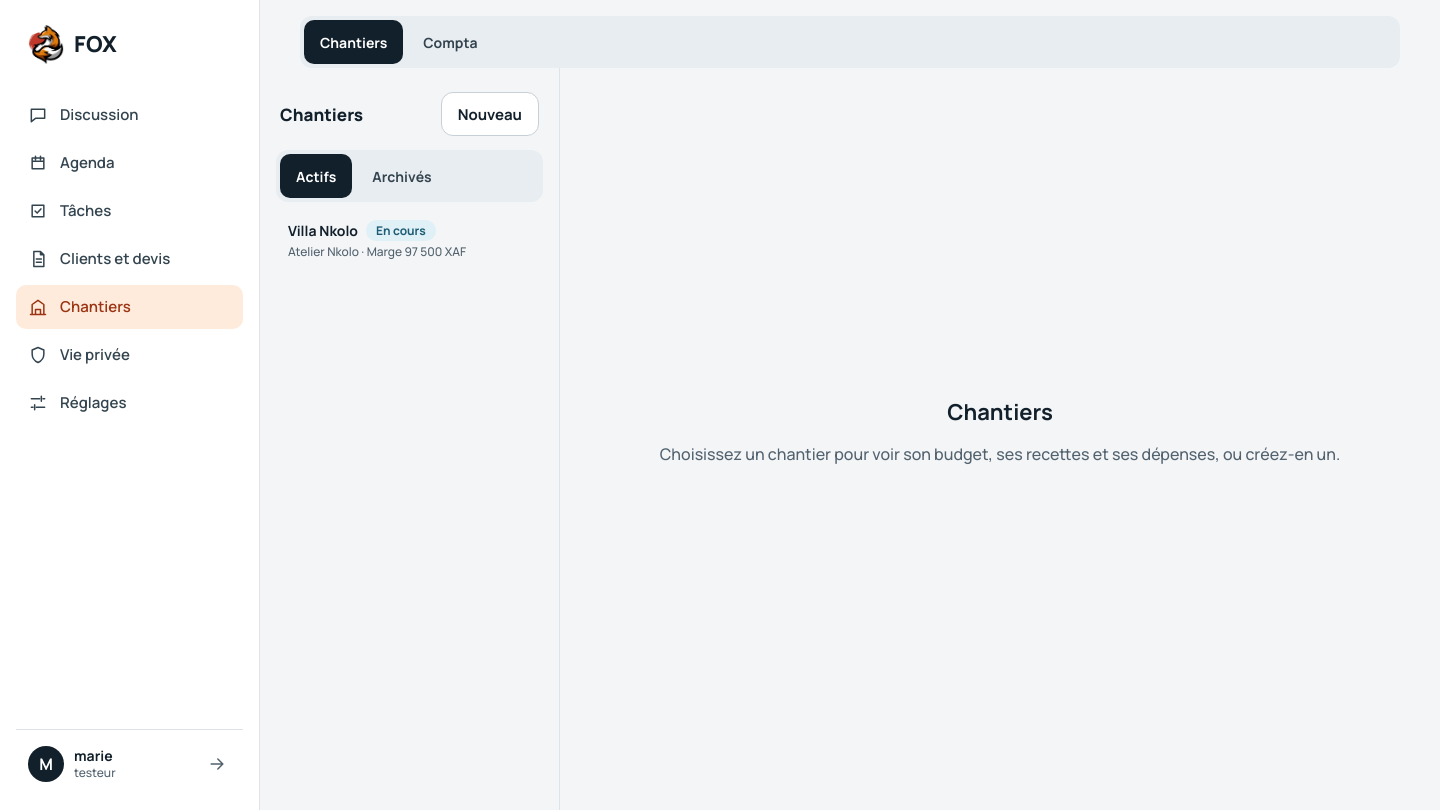
Scenario: Chantiers › liste les chantiers et affiche budget, recettes, dépenses et marge
Click the button "Villa Nkolo En cours Atelier Nkolo · Marge 97 500 XAF": (410, 240) 276,208 -> 543,272
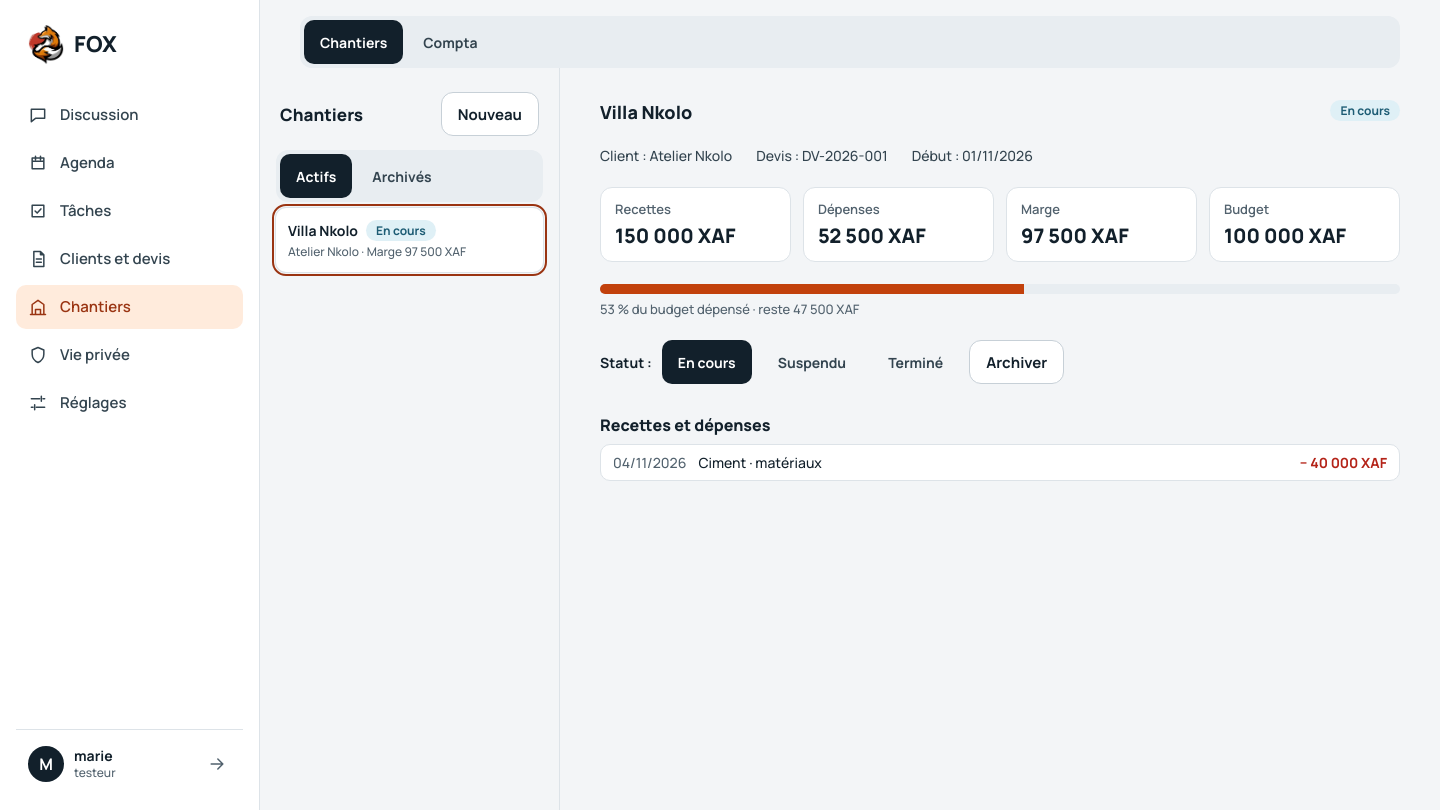
Check: the text "150 000 XAF" is shown, box 615,222 -> 736,249
Check: the text "52 500 XAF" is shown, box 818,222 -> 926,249
Check: the text "97 500 XAF" is shown, box 1021,222 -> 1129,249
